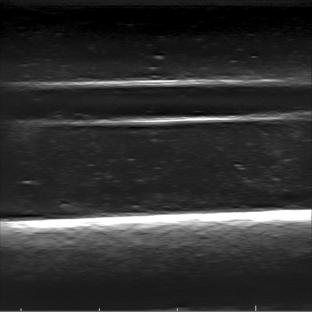vessel: (12, 77, 308, 126)
